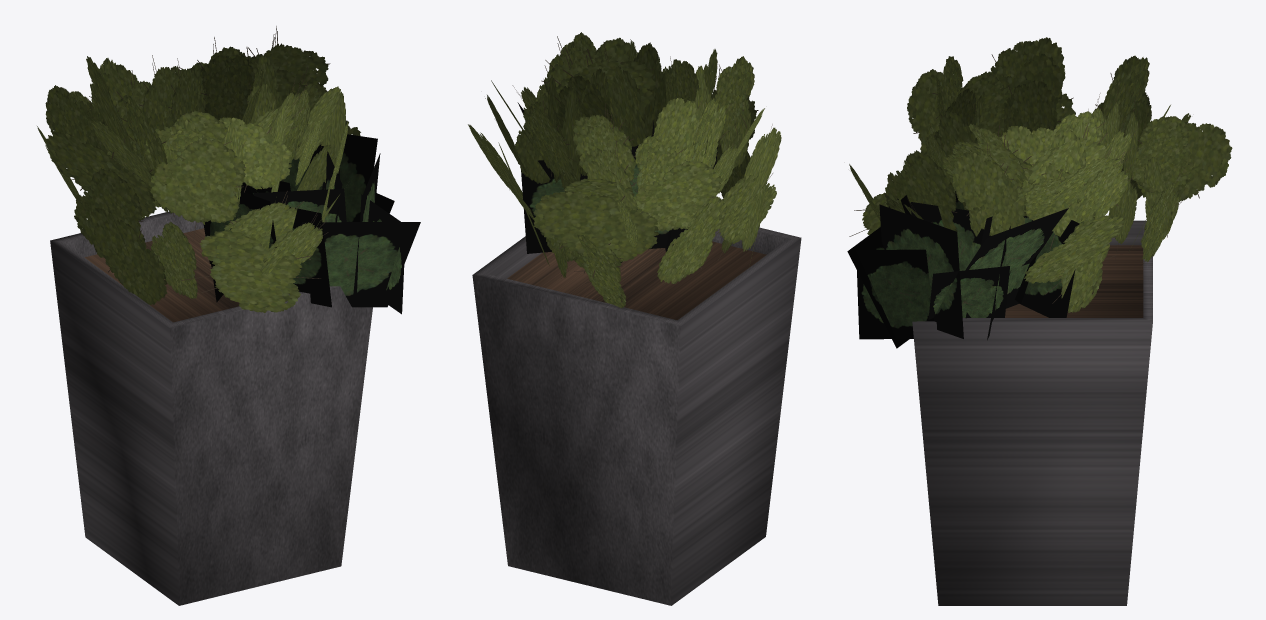
Rendered from SM_Morin_FiorieraB.fbx.
3 renders of one model, left to right at view 1: azimuth 30°, elevation 25°; view 2: azimuth 150°, elevation 25°; view 3: azimuth 270°, elevation 25°, orthographic.
Parts seen in each view (by area): view 1: SM_Morin_FiorieraB; view 2: SM_Morin_FiorieraB; view 3: SM_Morin_FiorieraB.
Part boxes in pixels (x1,y1,x2,y2): SM_Morin_FiorieraB: [37, 26, 420, 605]; SM_Morin_FiorieraB: [468, 32, 801, 605]; SM_Morin_FiorieraB: [847, 37, 1232, 605].
Size of what is drawn, in the model's own units: 128 by 130 by 162.
3 materials, 3 textured.
